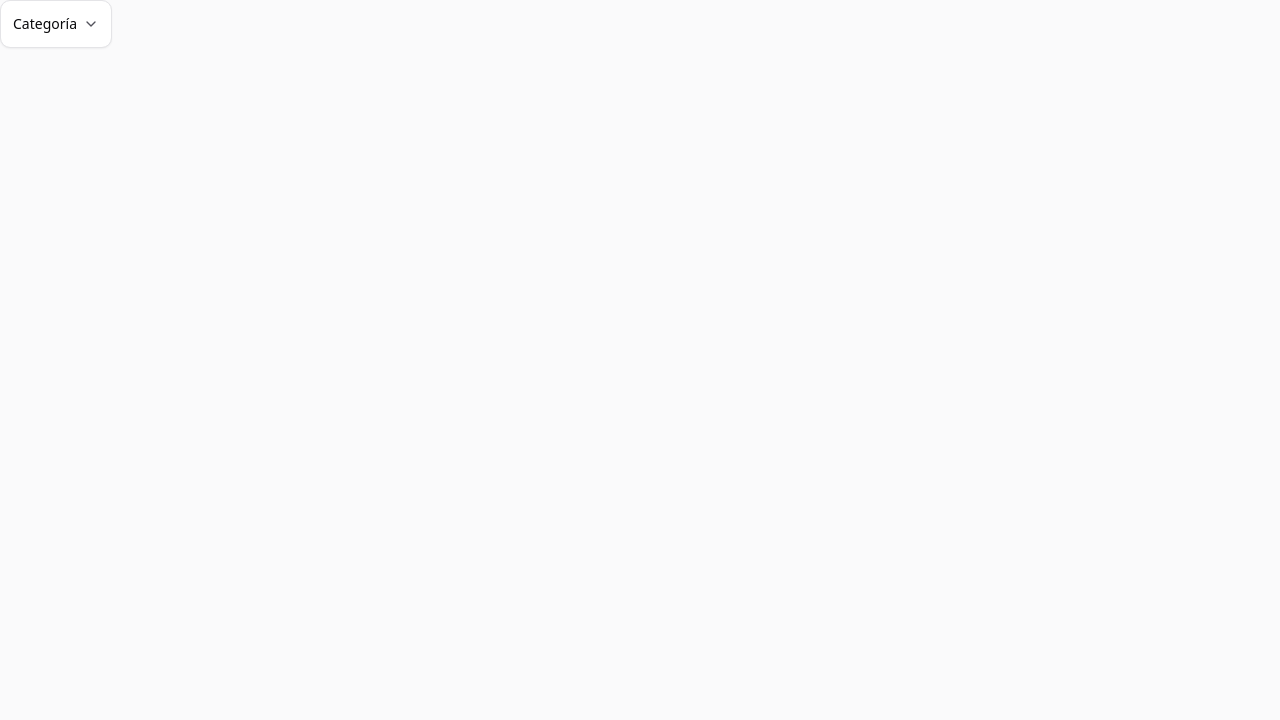
Filtro › marcar y desmarcar opciones avisa la nueva selección
Click the button "Categoría" at coordinates (56, 24), box top-left (0, 0), bottom-right (112, 48)
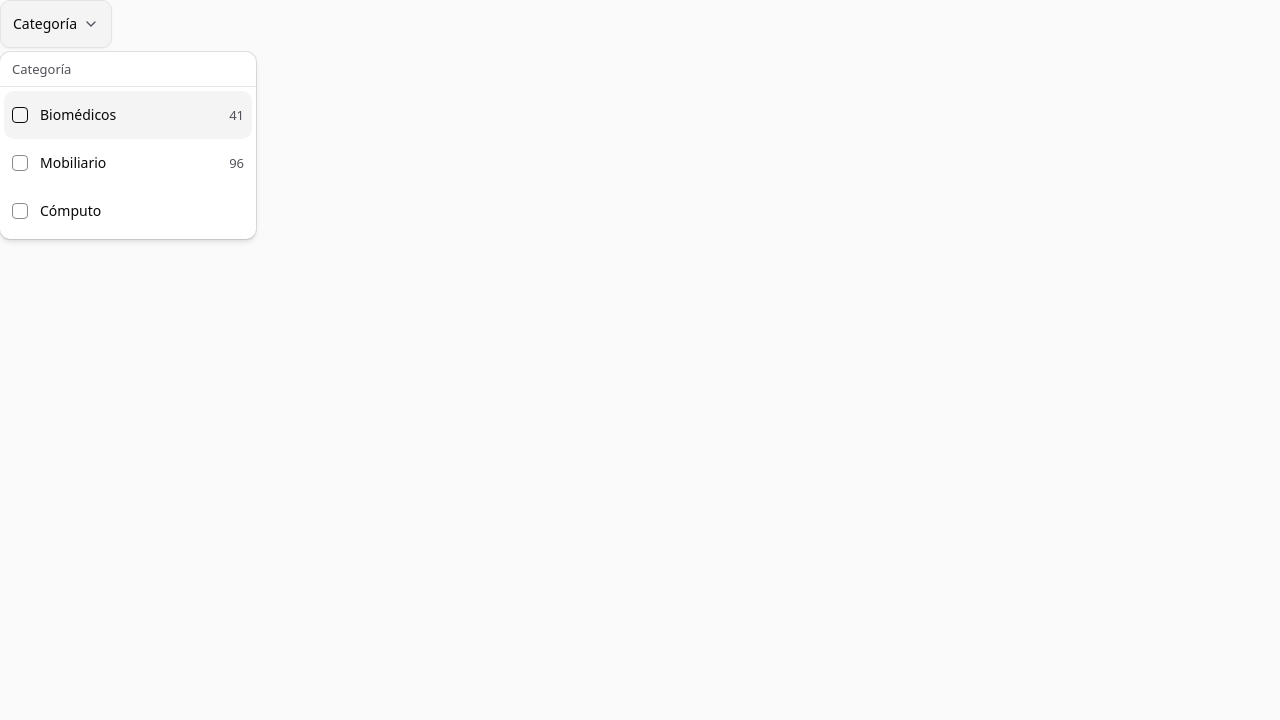
Click the checkbox named "Mobiliario" next to "Mobiliario" at coordinates (20, 163), box top-left (12, 155), bottom-right (28, 171)
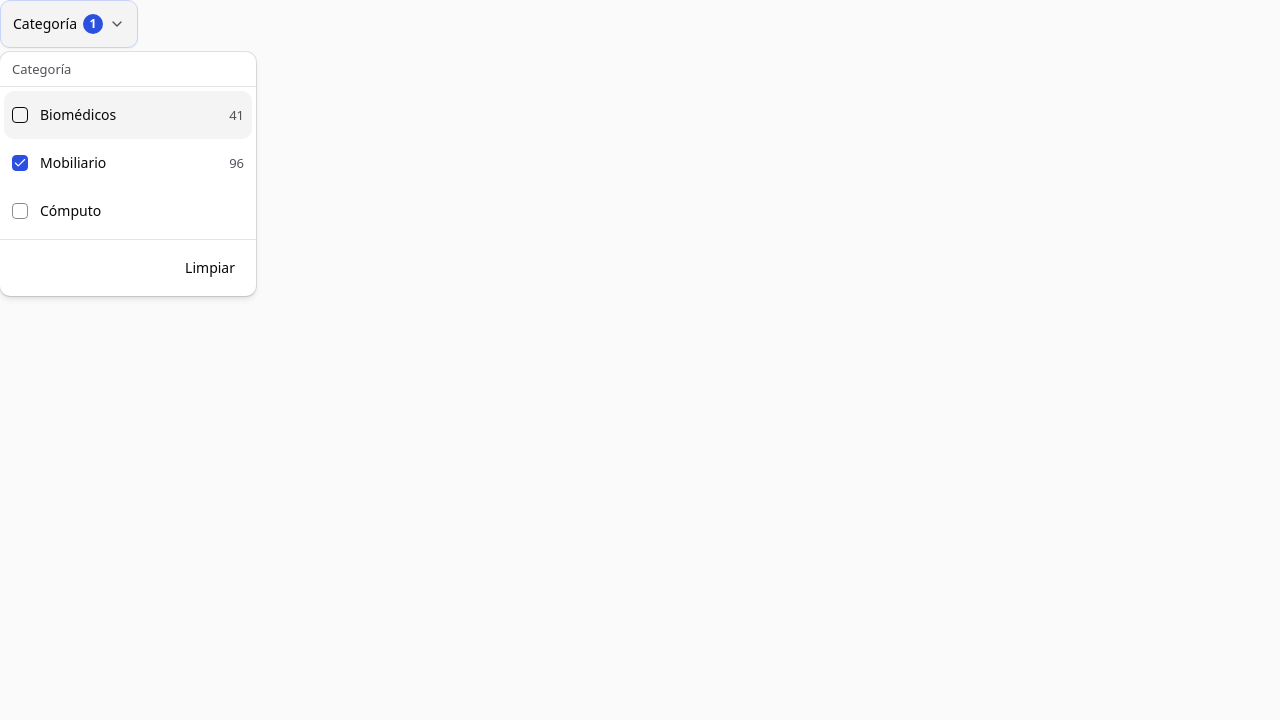
Click the checkbox named "Biomédicos" next to "Biomédicos" at coordinates (20, 115), box top-left (12, 107), bottom-right (28, 123)
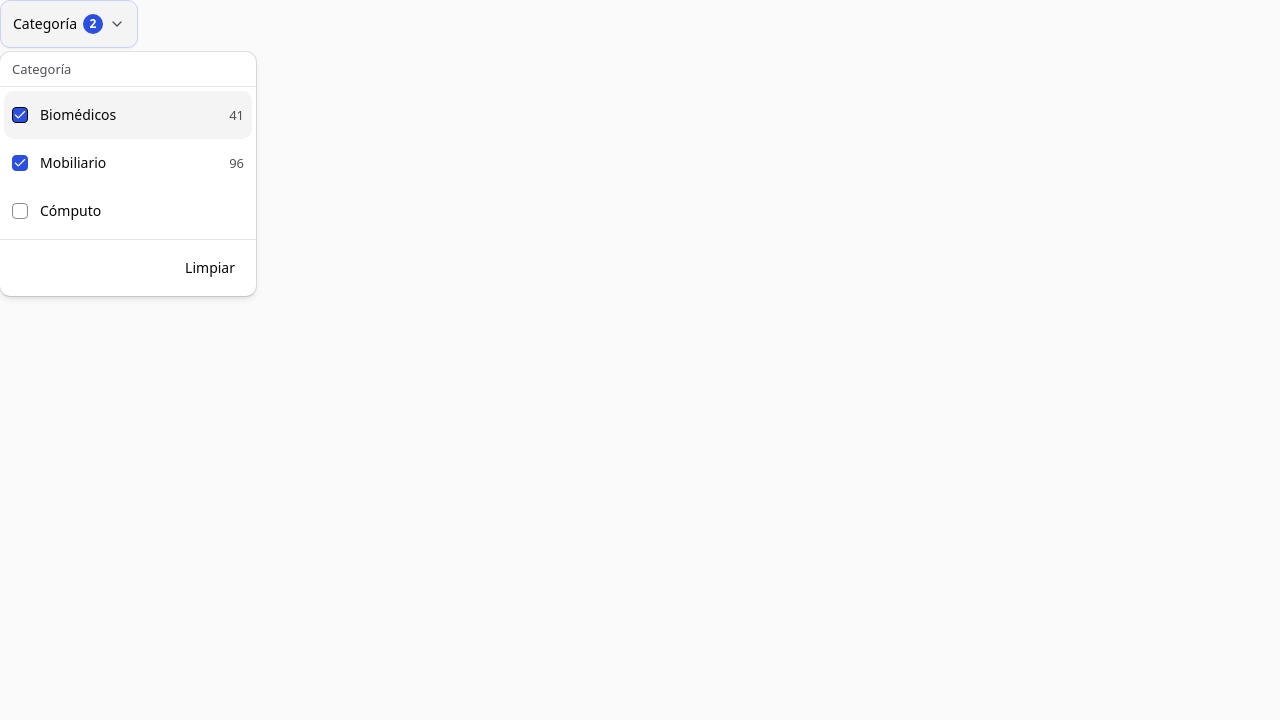
Click the checkbox named "Mobiliario" next to "Mobiliario" at coordinates (20, 163), box top-left (12, 155), bottom-right (28, 171)
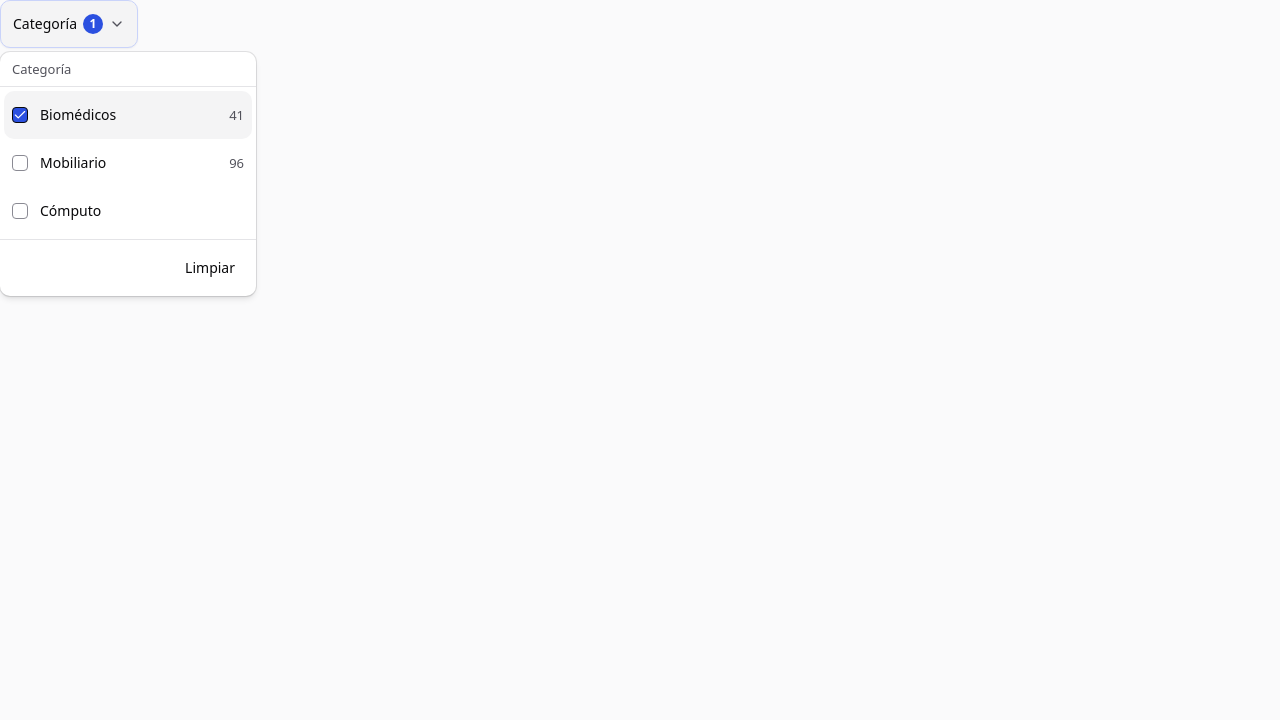
Now the checkbox named "Biomédicos" next to "Biomédicos" is checked, box top-left (12, 107), bottom-right (28, 123)
